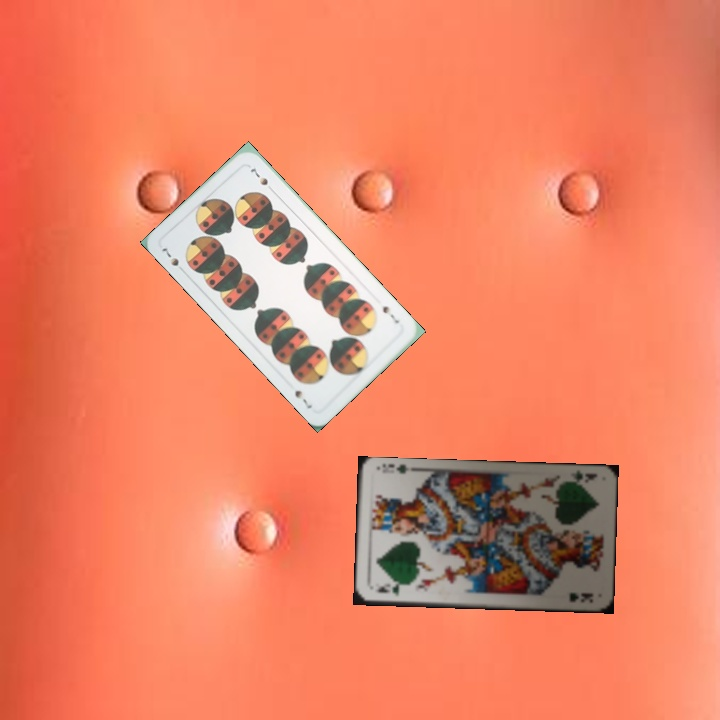GK: (561, 467, 599, 487), (371, 582, 402, 599)
S7: (158, 243, 188, 276), (378, 302, 402, 326)
